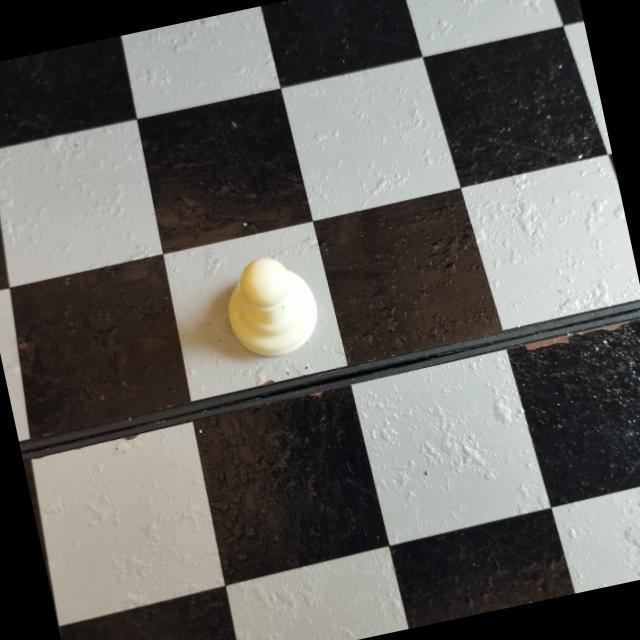White Pawn: (213, 243, 328, 371)
